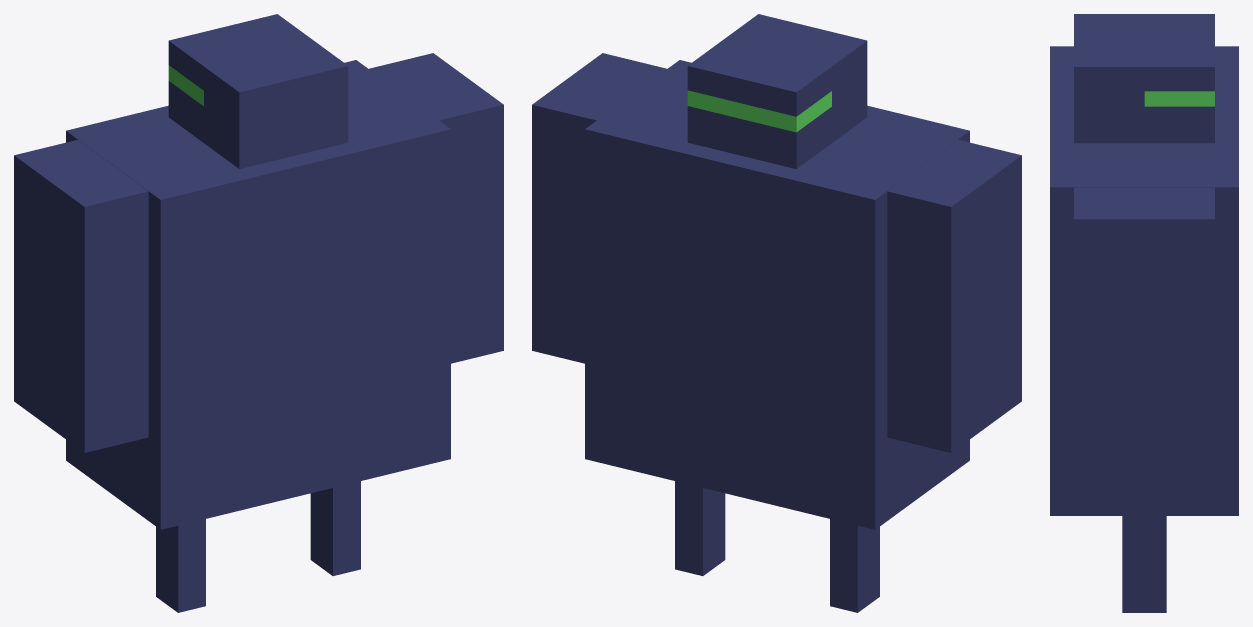
The model's file is robot1.glb.
3 renders of one model, left to right at view 1: azimuth 30°, elevation 25°; view 2: azimuth 150°, elevation 25°; view 3: azimuth 270°, elevation 25°, orthographic.
Parts seen in each view (by area): view 1: cube_body, cube_arm2, cuibe_head, cube_arm, cube_leg2, cube_leg; view 2: cube_body, cube_arm2, cuibe_head, cube_arm, cube_leg2, cube_leg; view 3: cube_arm, cube_body, cuibe_head, cube_leg2.
Part boxes in pixels (box(x1,y1,x2,y2)): cube_body: box(66, 60, 450, 529); cube_arm2: box(14, 139, 148, 452); cuibe_head: box(168, 14, 348, 168); cube_arm: box(369, 53, 503, 363); cube_leg2: box(310, 481, 360, 575); cube_leg: box(156, 519, 205, 612); cube_body: box(585, 60, 969, 529); cube_arm2: box(887, 139, 1021, 452); cuibe_head: box(687, 14, 867, 168); cube_arm: box(532, 53, 666, 363); cube_leg2: box(675, 481, 725, 575); cube_leg: box(830, 519, 879, 612); cube_arm: box(1074, 187, 1214, 464); cube_body: box(1050, 46, 1238, 515); cuibe_head: box(1074, 14, 1214, 143); cube_leg2: box(1122, 516, 1166, 612).
Bounding box in the file's own units: 1.47 × 1.78 × 0.5763.
